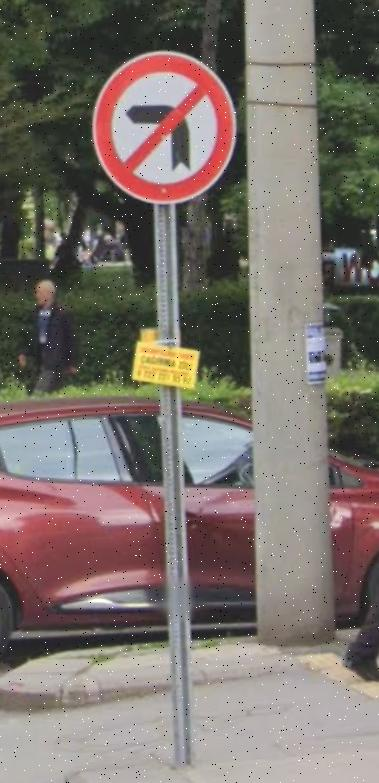leftturnsareforbidden: (97, 47, 232, 202)
